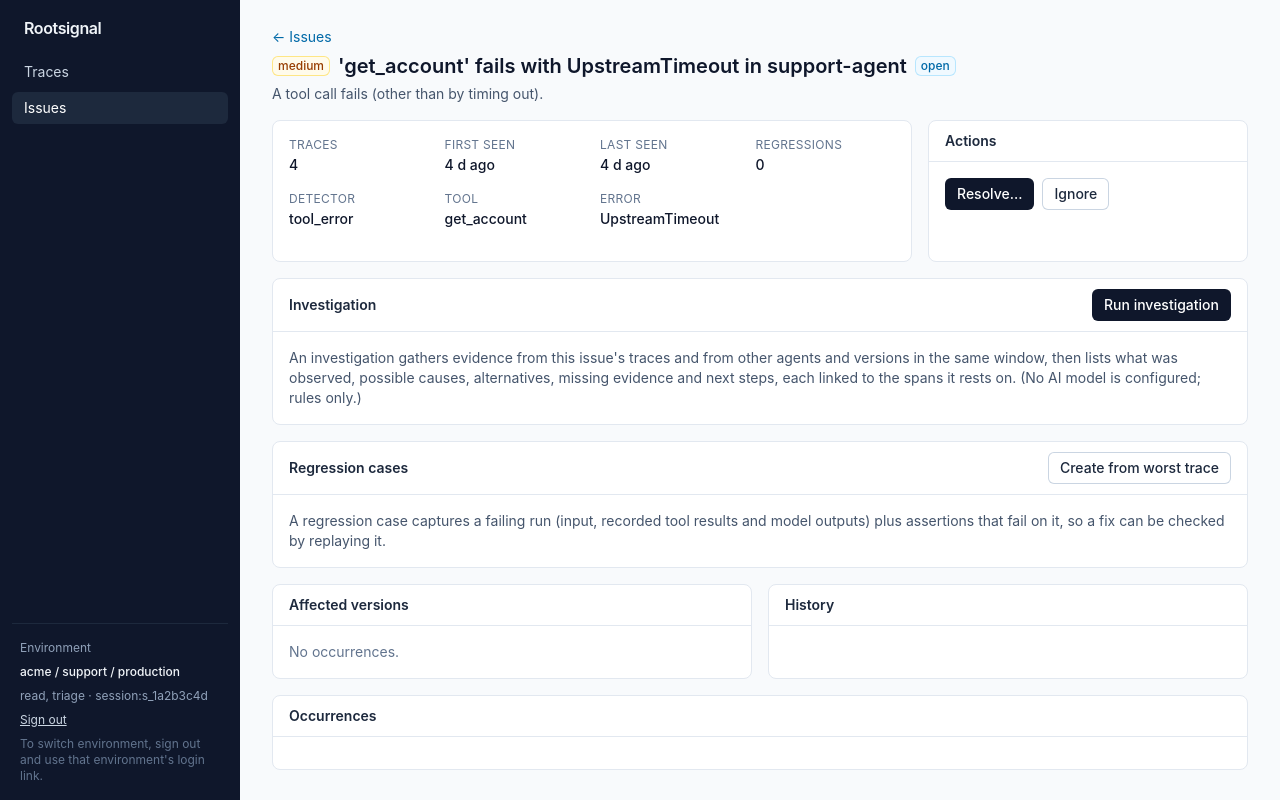
Scenario: issues › starts an investigation, hiding the AI option when it isn't available
Expected: the text "rules only" is shown, [289, 369, 1201, 406]
Click the button "Run investigation". click: (1162, 305)
box: [1092, 289, 1231, 321]
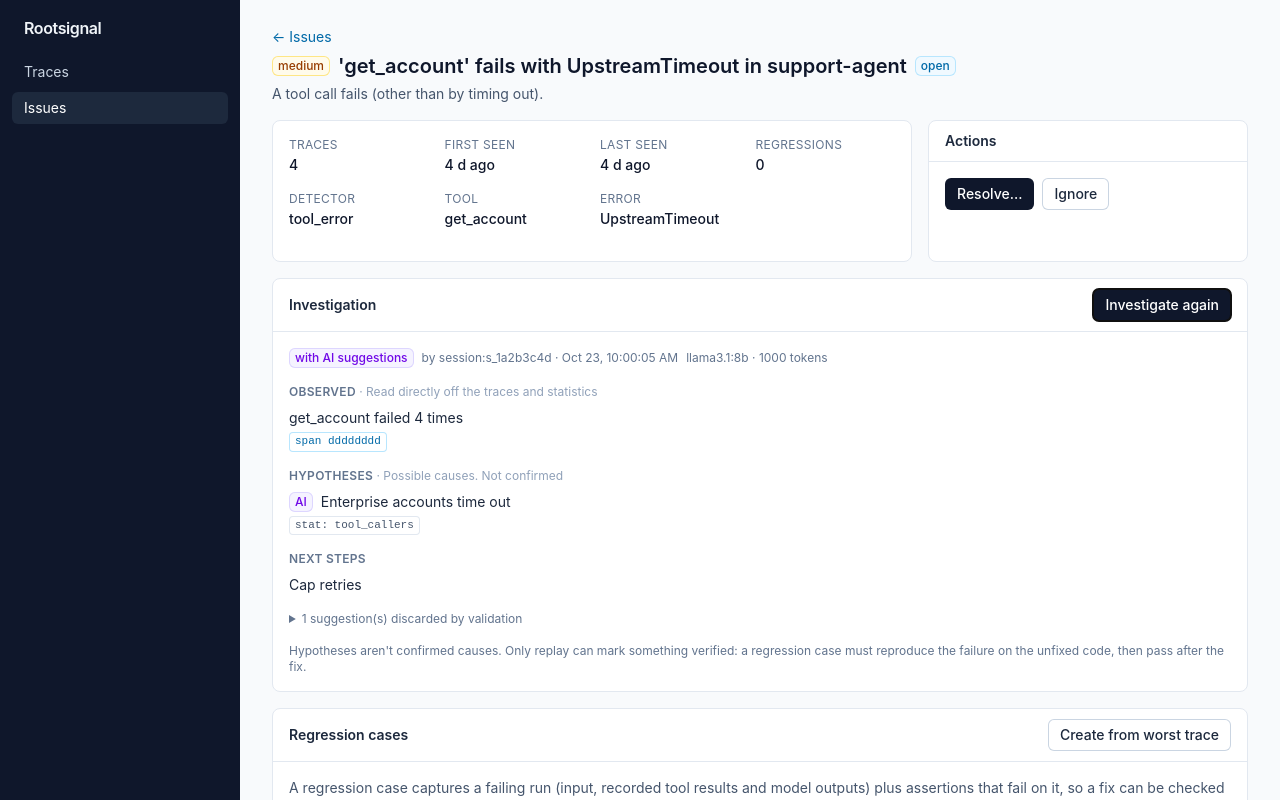
Result: the element "Observed" is shown at [289, 384, 598, 452]
